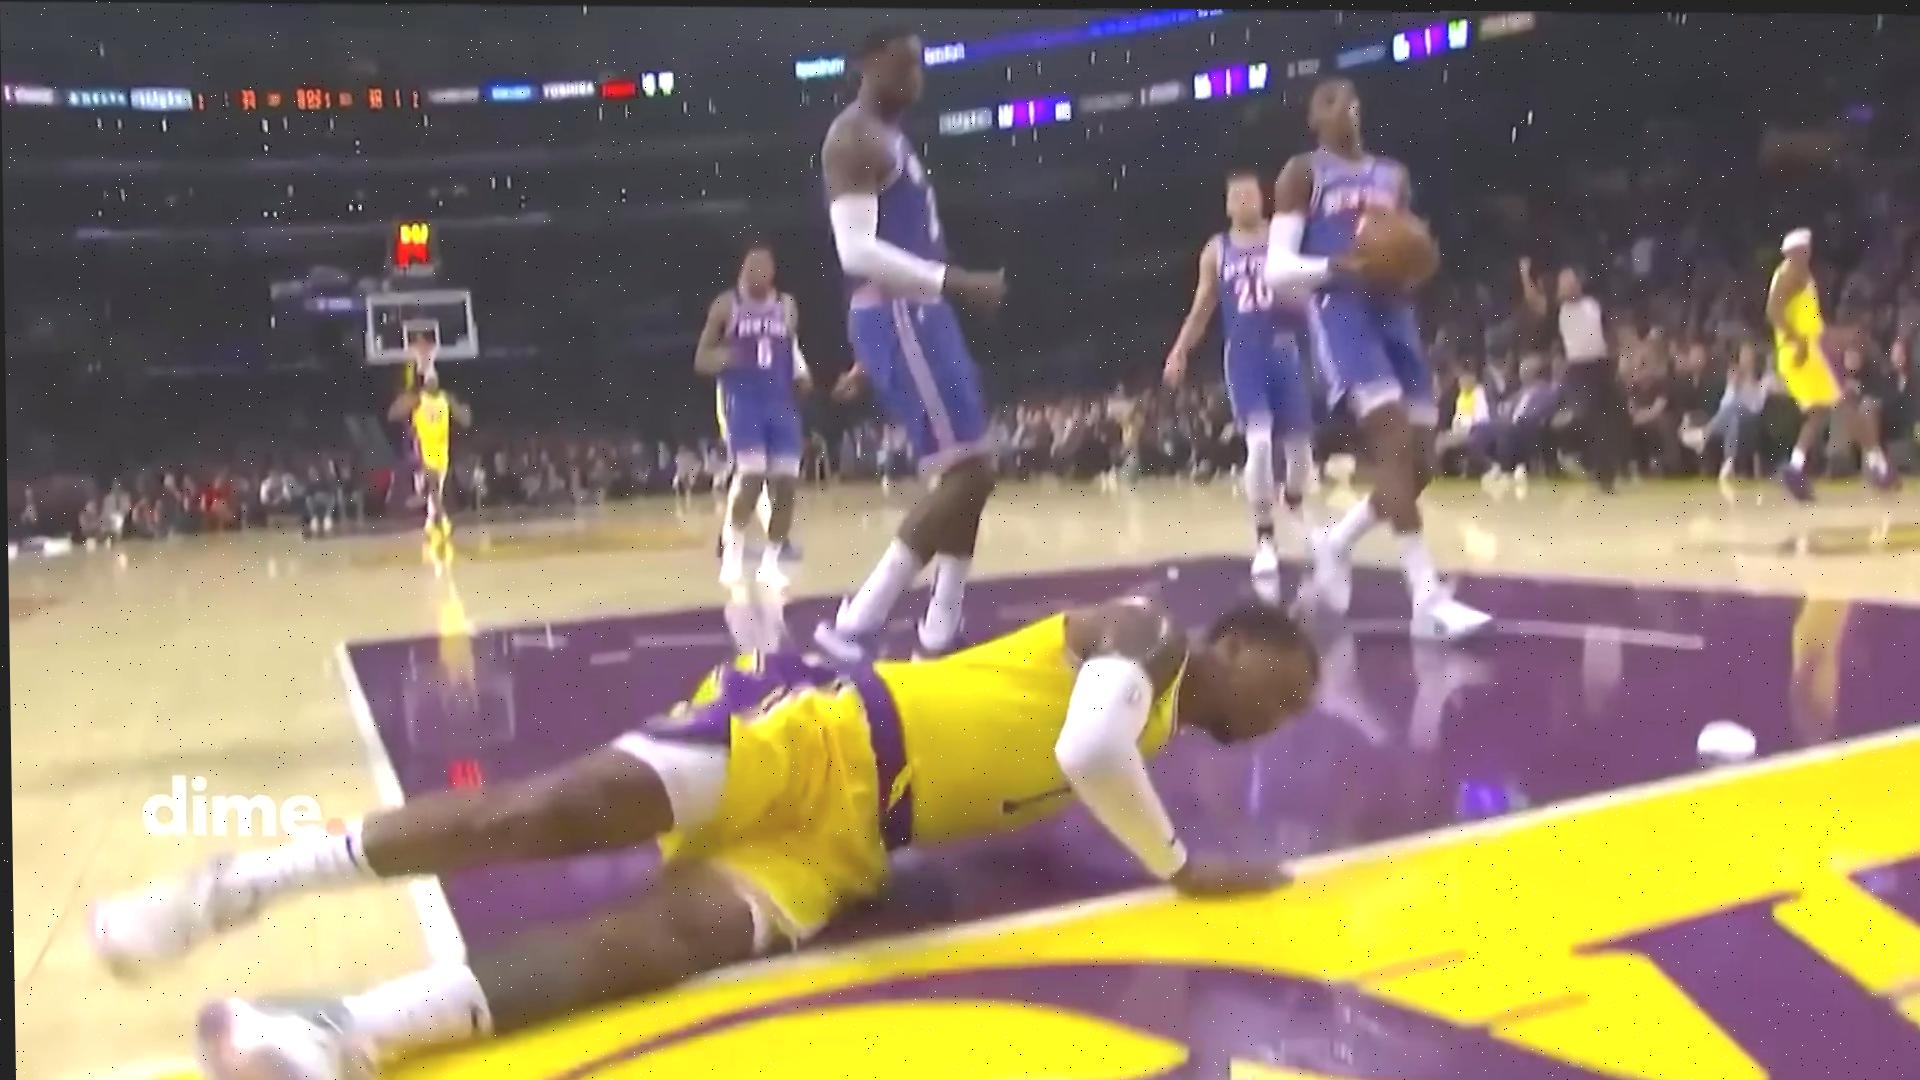no_foul: (135, 465, 1320, 975)
